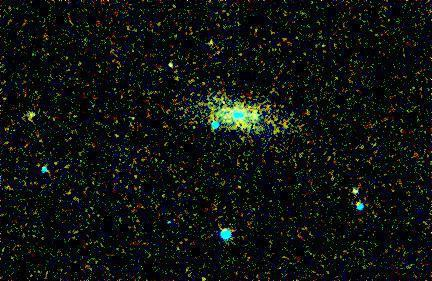star: (240, 98, 270, 128)
